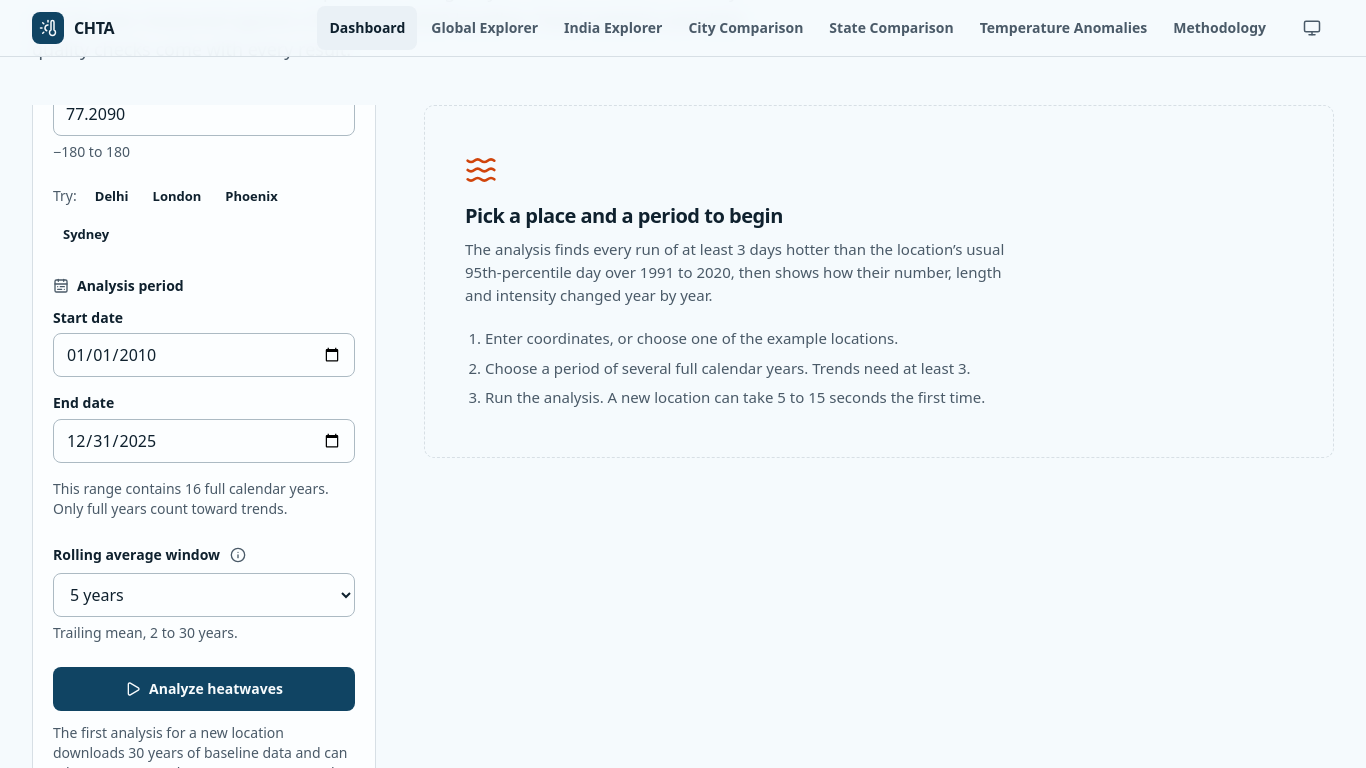
Test: form validation › rejects an end date before the start date
(page scrolled)
Clear the date field labelled "End date". click: [204, 440]
box: [53, 418, 355, 462]
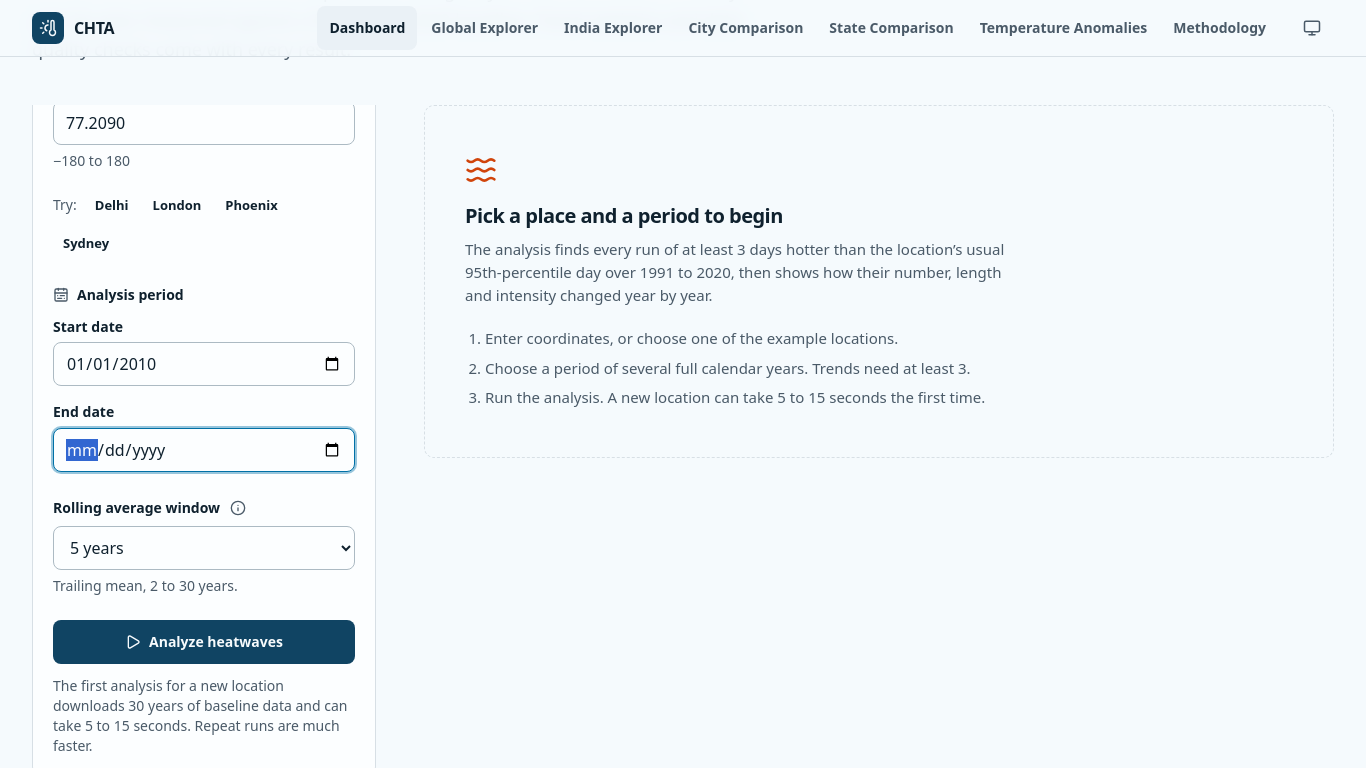
Type "2009-12-31" into the date field labelled "End date". click: [204, 450]
box: [53, 428, 355, 472]
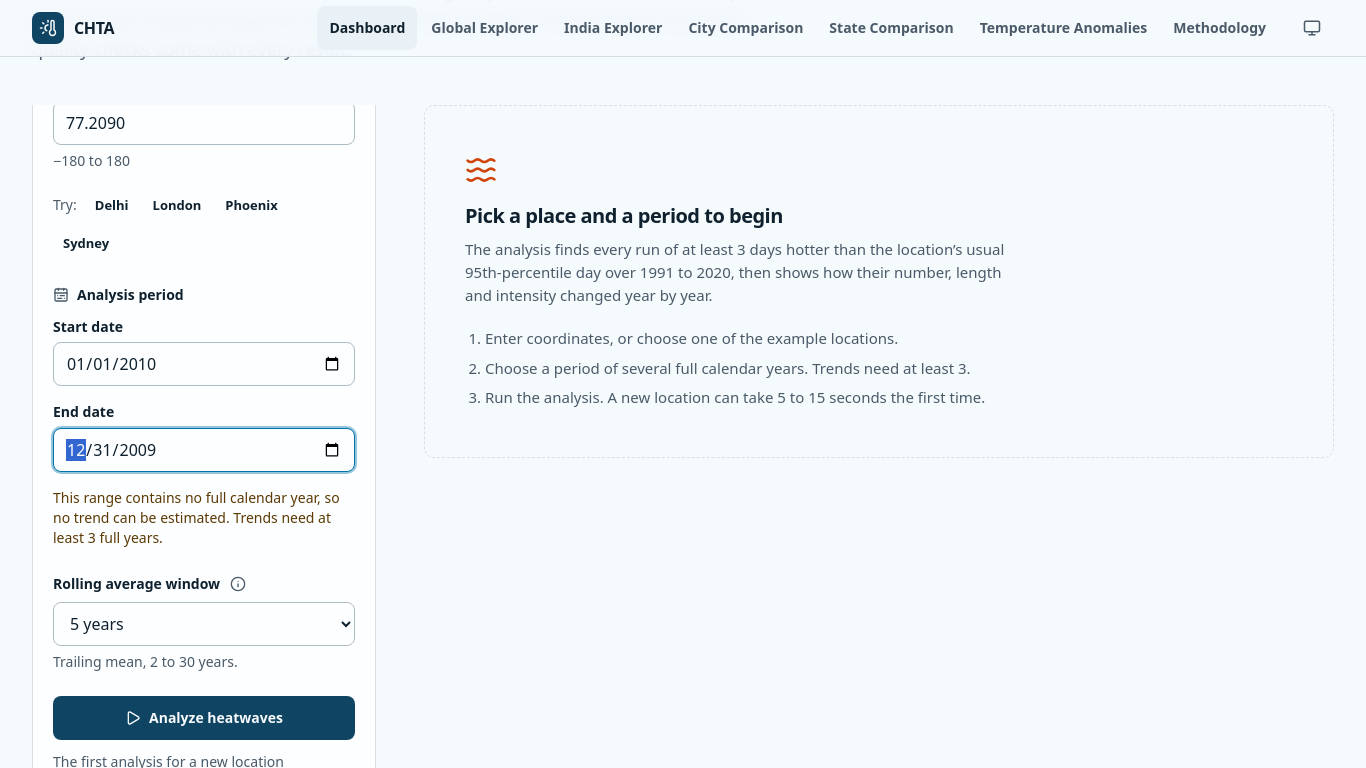
Click the button "Analyze heatwaves". click: [204, 718]
box: [53, 696, 355, 740]
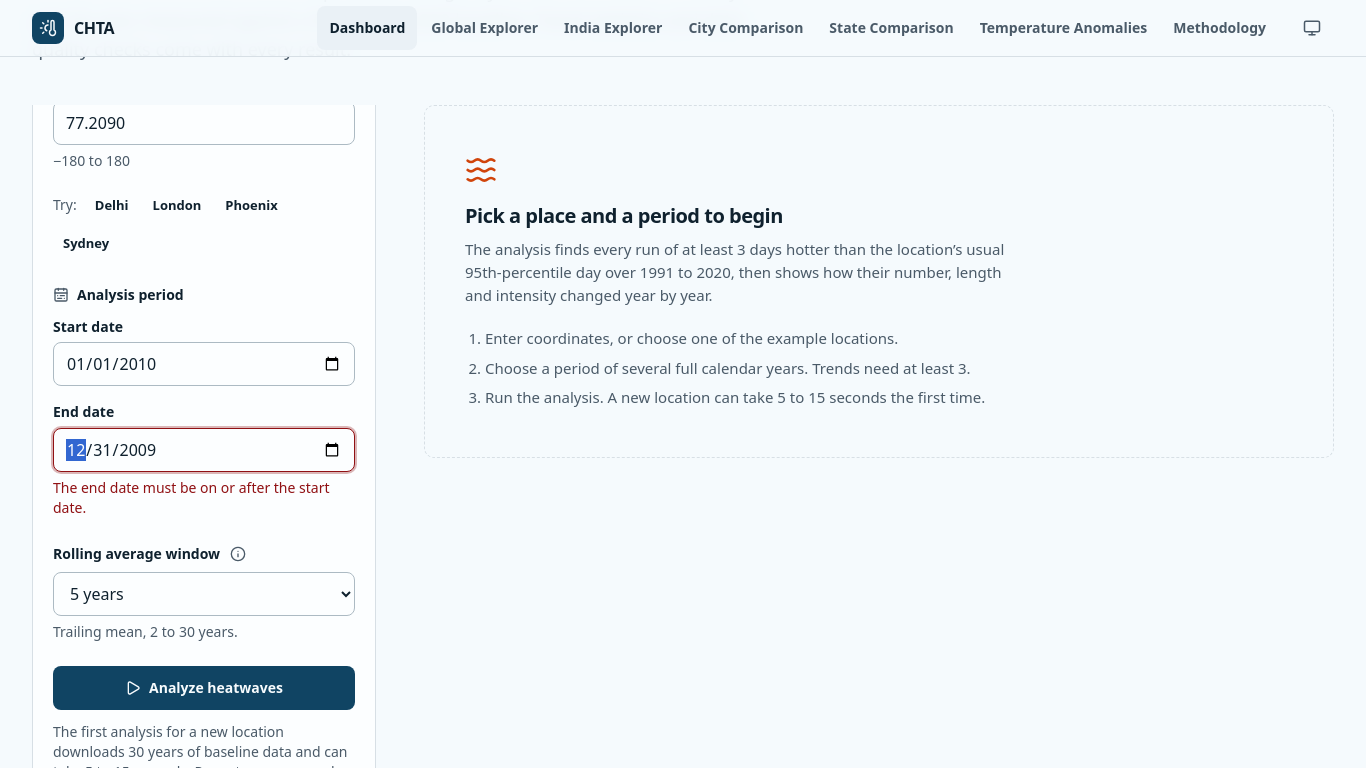
Check: the message reads "The end date must be on or after the start date.", box [53, 478, 330, 516]
